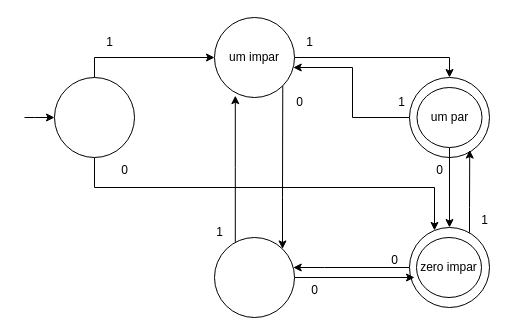
Some shapes in this 517 by 335 pixel diagram are drawn without their labels. Each missing label, with the box of its shape:
Inicio: (54, 76, 134, 158)
zero par: (214, 236, 294, 318)
